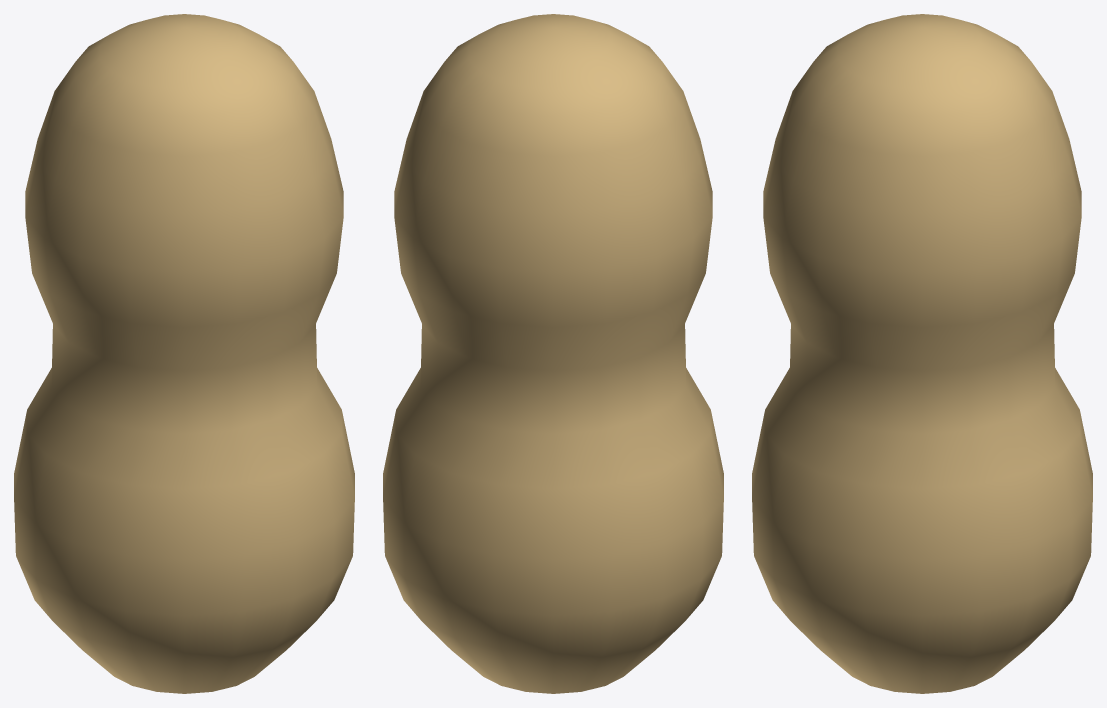
File: Peanutprototype.fbx
3 views of the same model, side by side, from view 1: azimuth 30°, elevation 25°; view 2: azimuth 150°, elevation 25°; view 3: azimuth 270°, elevation 25° (orthographic).
Visible parts, largest first — view 1: pSphere1; view 2: pSphere1; view 3: pSphere1.
Part boxes in pixels (x1=…): pSphere1: x1=14, y1=14, x2=354, y2=693; pSphere1: x1=383, y1=14, x2=723, y2=693; pSphere1: x1=752, y1=14, x2=1092, y2=693.
Size of the model in its own units: 1.92 by 3.98 by 1.89.
